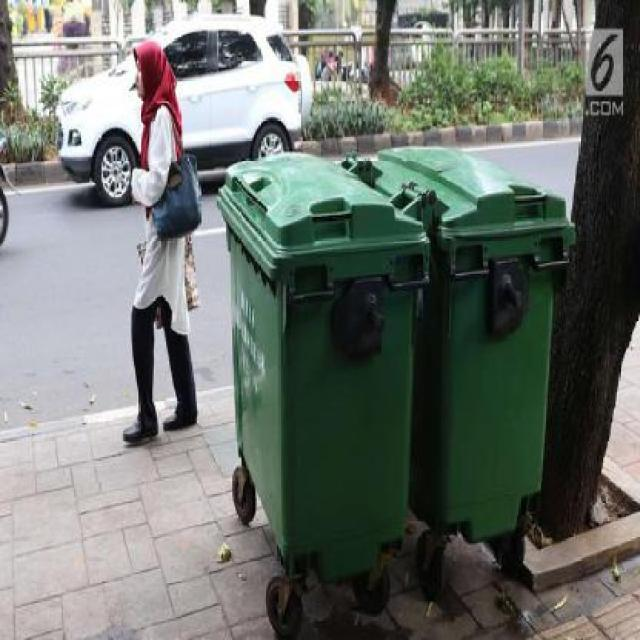garbage container: (211, 147, 434, 640), (371, 142, 580, 588)
